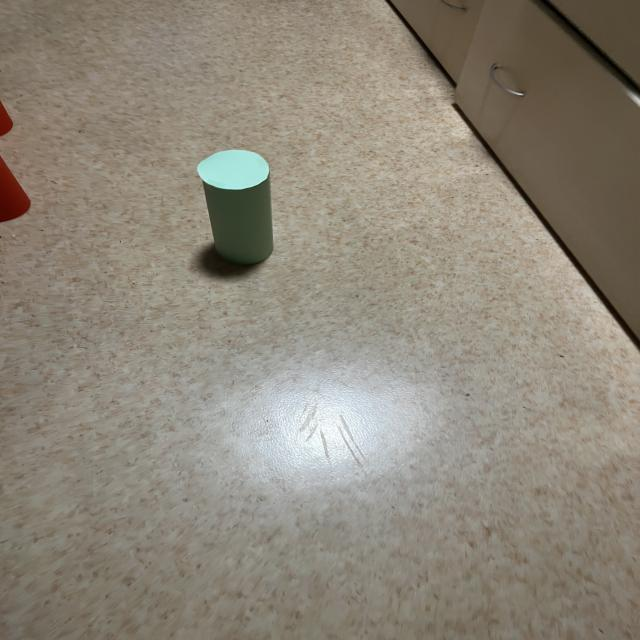meta: (197, 150, 273, 265)
